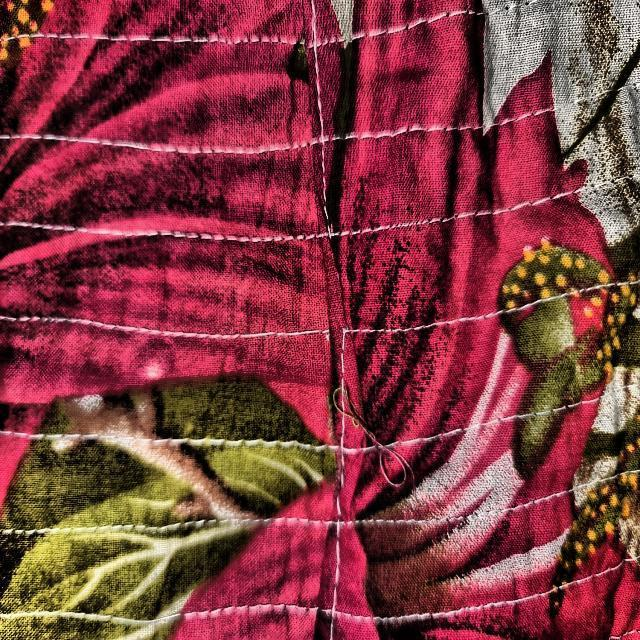gray stitch: (327, 361, 432, 515)
